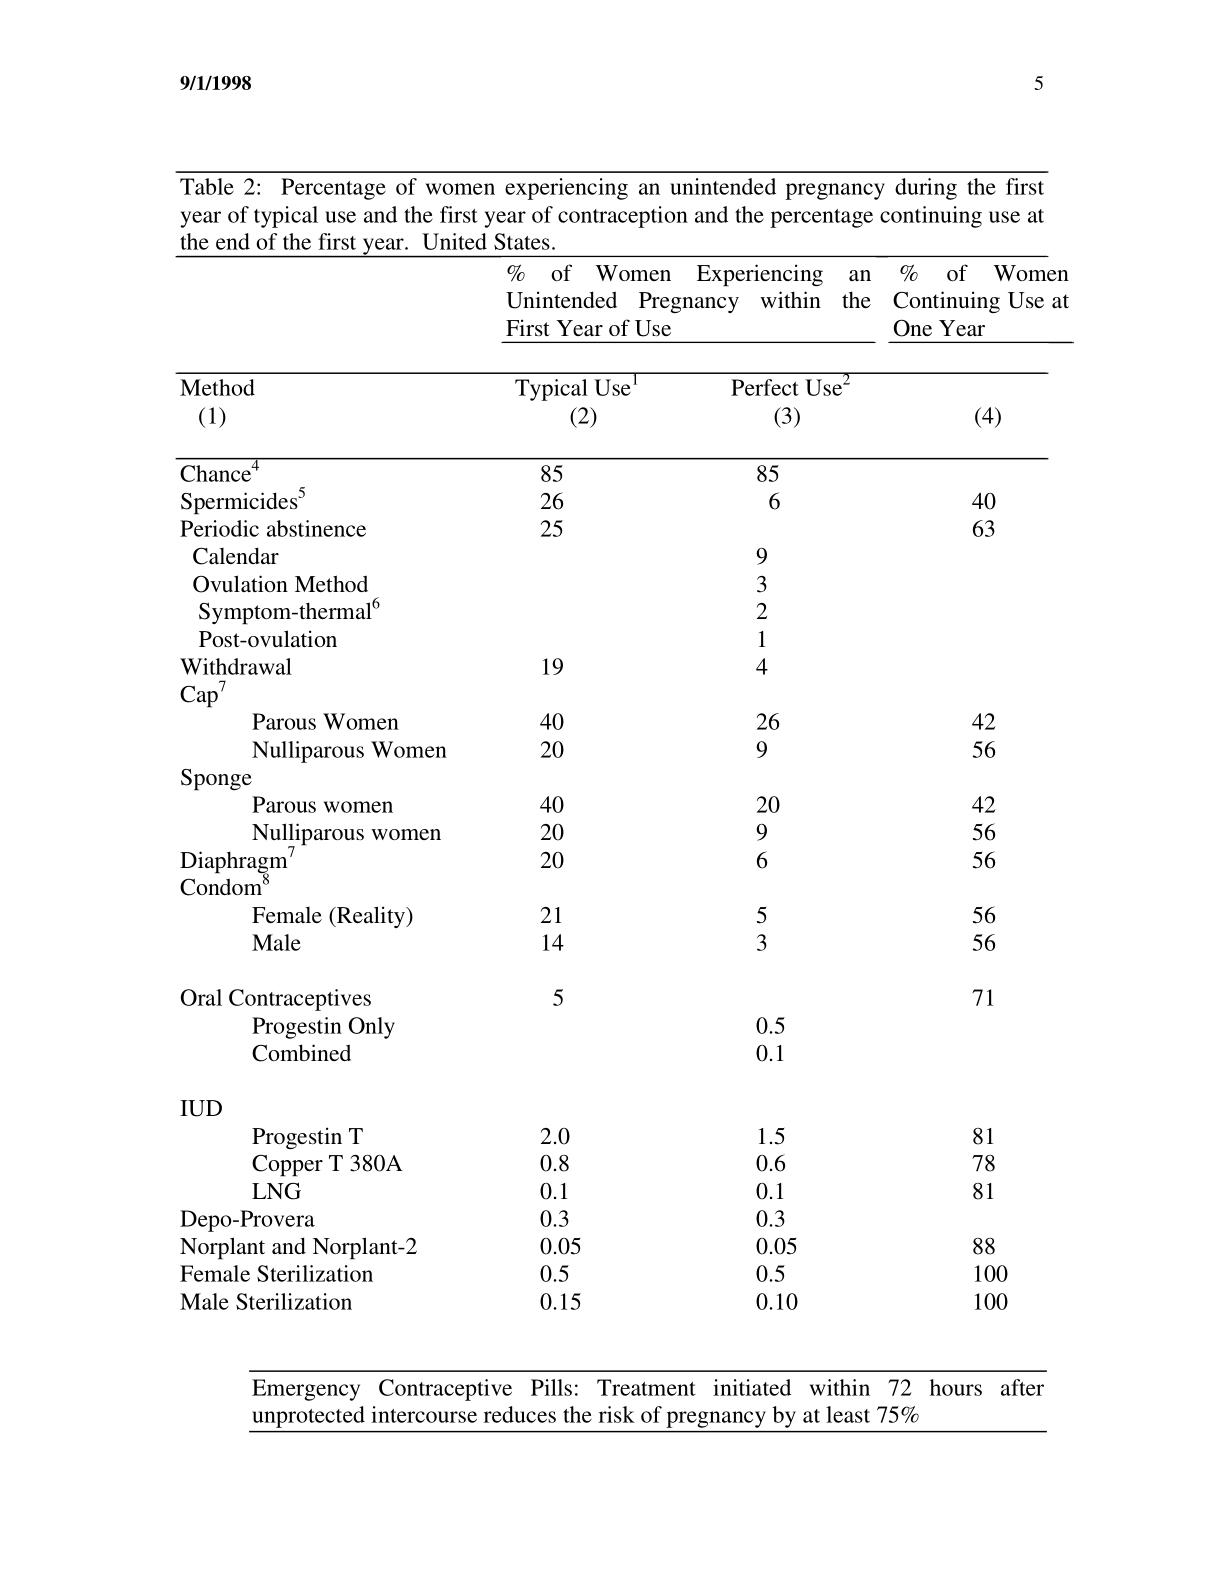partial_lined_merged_cells: (174, 255, 1076, 1377)
